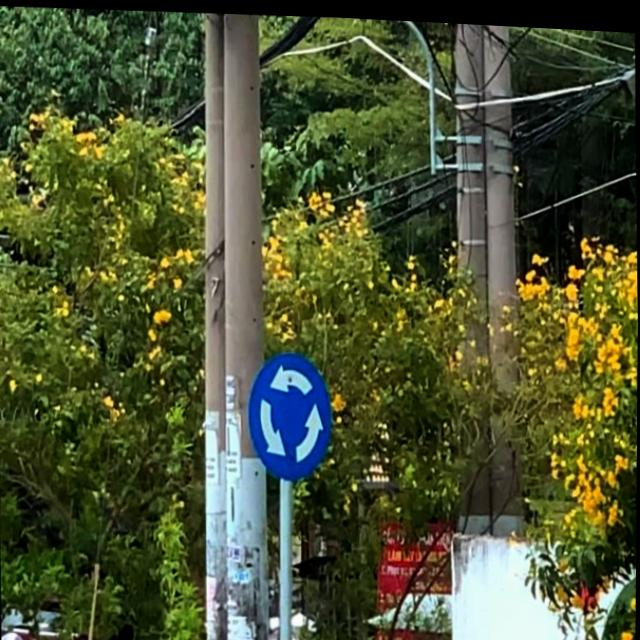Noi giao nhau chay theo vong xuyen: (250, 348, 337, 479)
